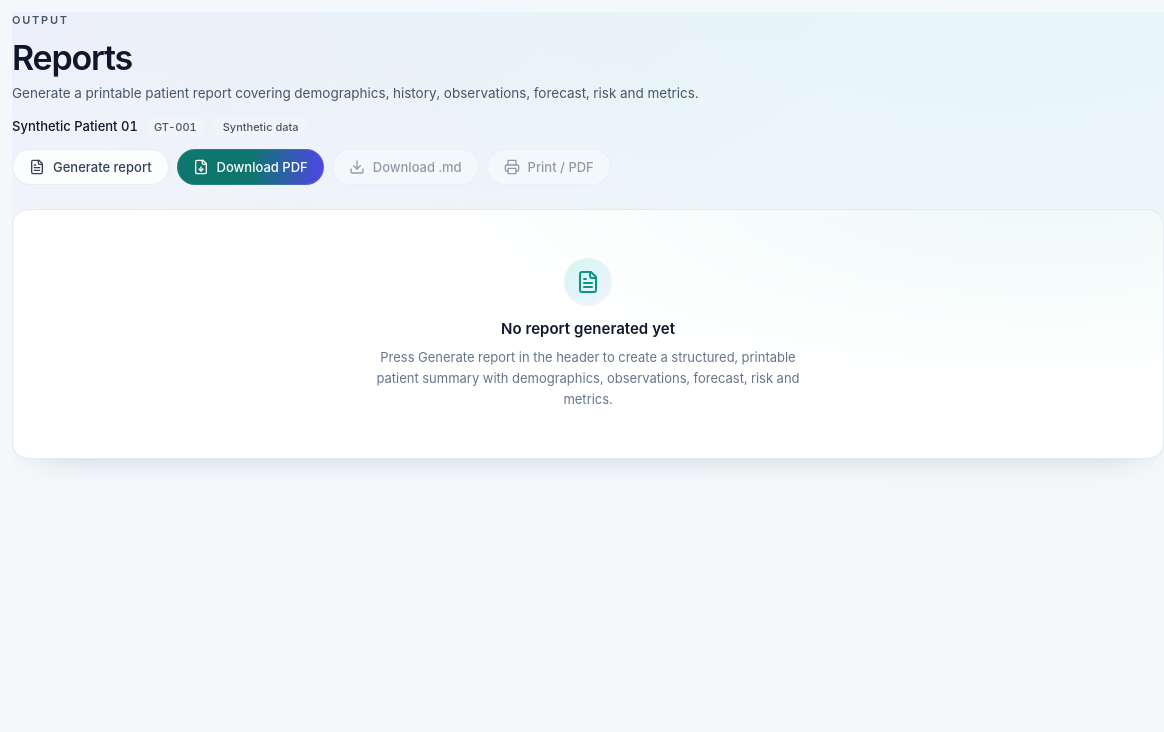
Test: Reports › generates a report and renders markdown headings, lists and tables
The image size is (1164, 732).
Click the button "Generate report". click: (90, 167)
box: left=12, top=149, right=169, bottom=185
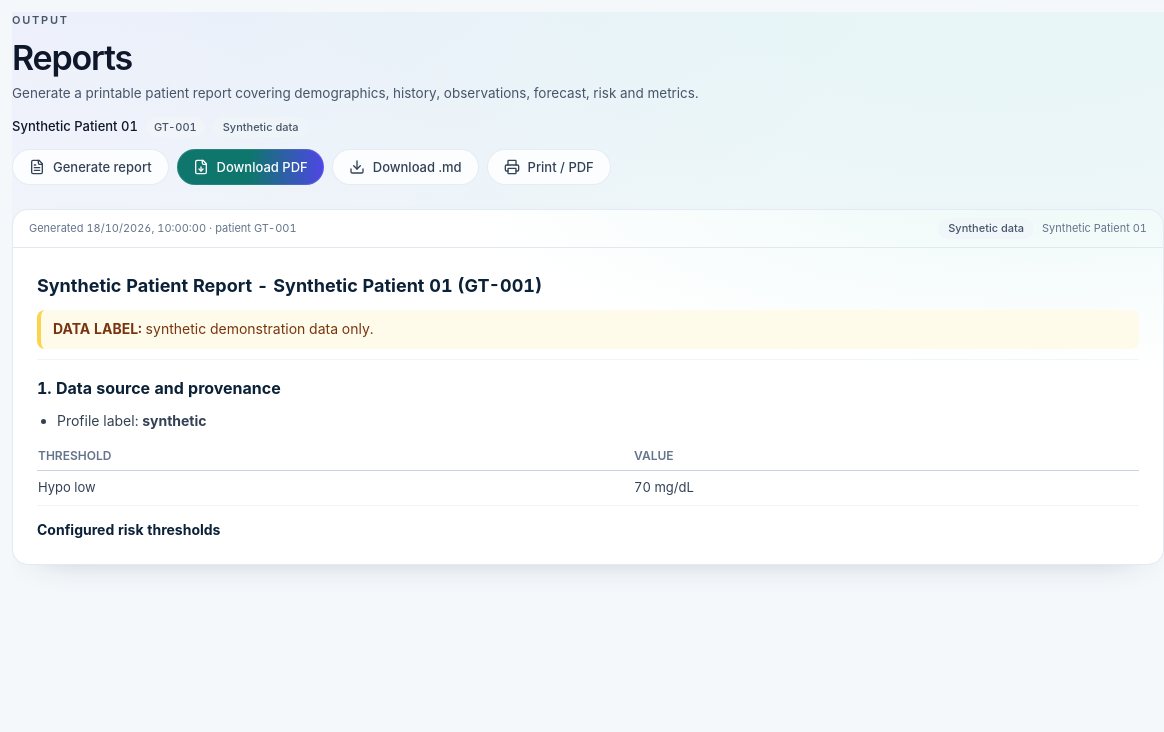
Check: the heading "Synthetic Patient Report - Synthetic Patient 01 (GT-001)" is shown, box left=37, top=275, right=542, bottom=296
Check: the heading "1. Data source and provenance" is shown, box left=37, top=359, right=1139, bottom=400
Check: the text "Hypo low" is shown, box left=37, top=471, right=633, bottom=505
